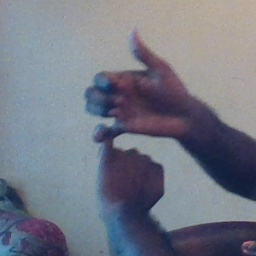S: (79, 24, 193, 197)
